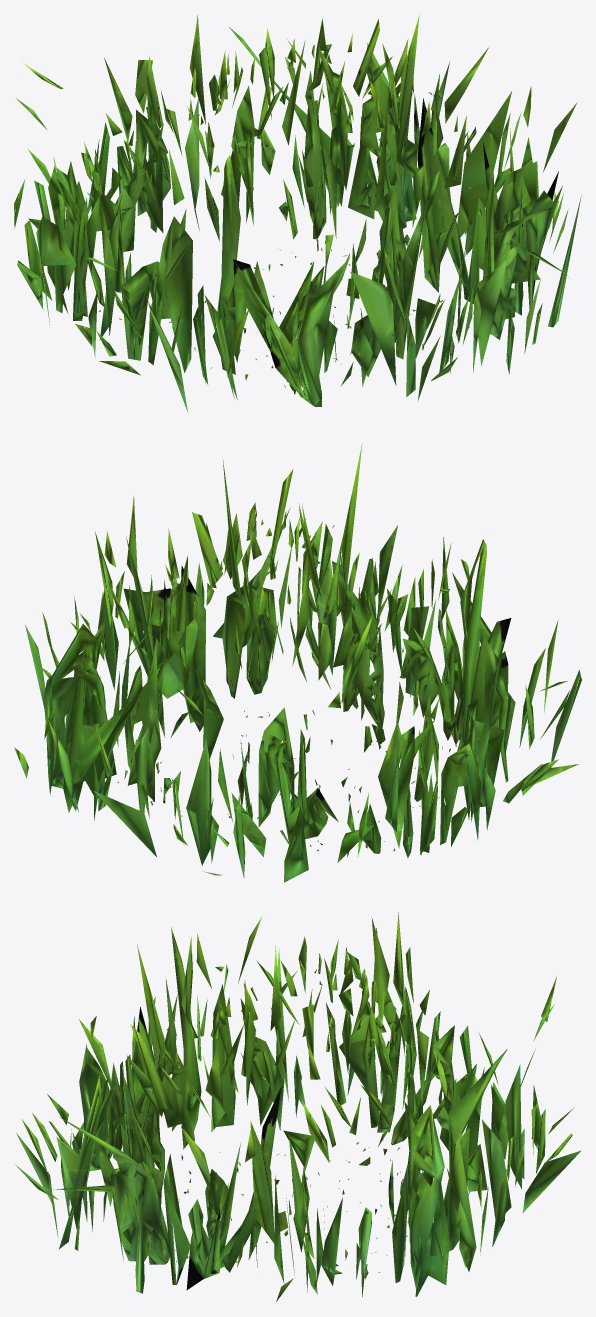
File: make_a_grass_model_fo_0607041801_texture.fbx
The picture shows the model from 3 angles, top to bottom: view 1: azimuth 30°, elevation 25°; view 2: azimuth 150°, elevation 25°; view 3: azimuth 270°, elevation 25°; orthographic projection. The views are drawn at different scales.
Parts seen in each view (by area): view 1: Mesh1; view 2: Mesh1; view 3: Mesh1.
Part boxes in pixels (box(x1,y1,x2,y2)): Mesh1: box(14, 14, 581, 412); Mesh1: box(14, 444, 581, 882); Mesh1: box(15, 912, 581, 1301).
Bounding box in the file's own units: 166 × 93.1 × 169.
1 material, 1 textured.
